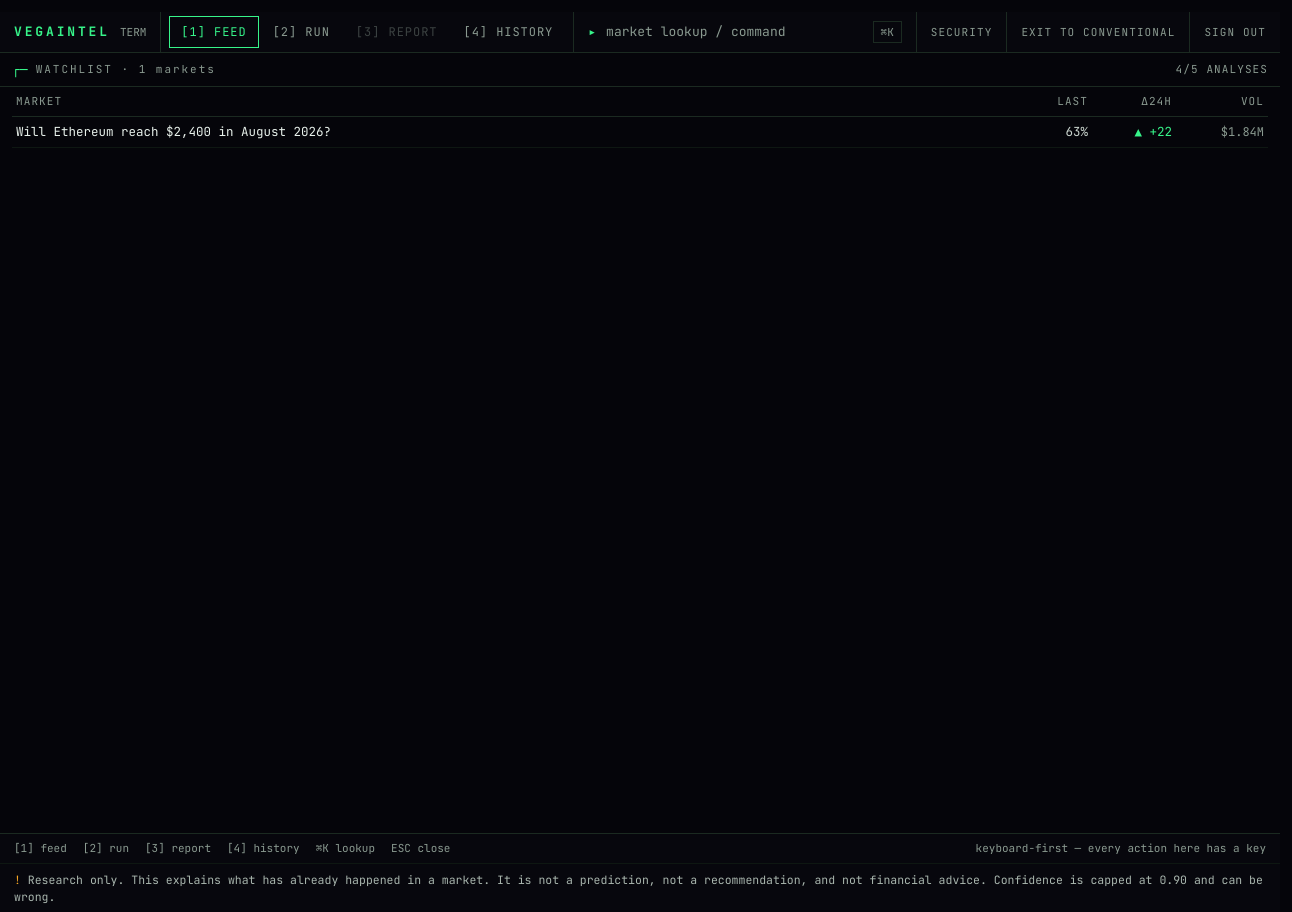
Test: TerminalPage — usage and the quota wall (UX-03 #11, #12, #13) › still shows RUN FAILED for an actual failure
The image size is (1292, 912).
Click the text "Will Ethereum reach $2,400 in August 2026?": [174, 131] box [16,122,331,140]
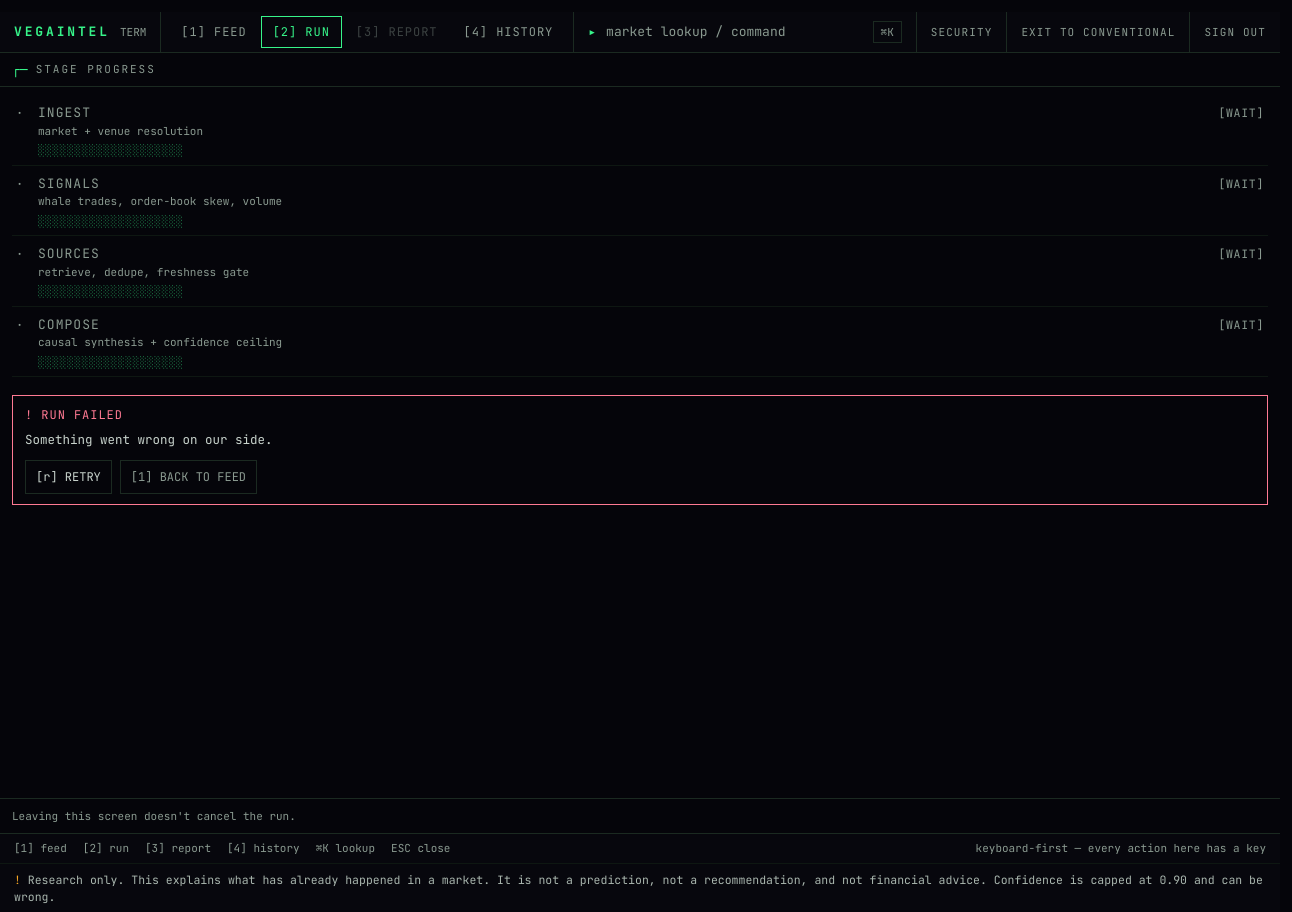
Expected: the text "! RUN FAILED" is shown, [25,407,123,423]
